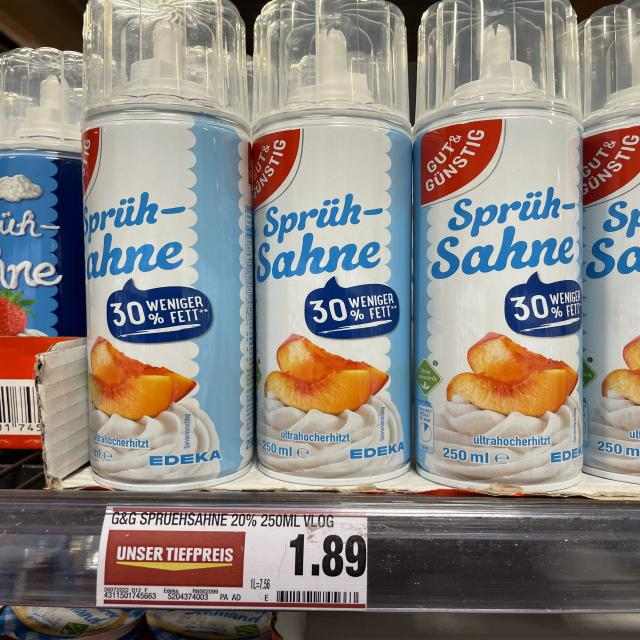cream: (81, 0, 252, 491), (414, 0, 585, 491), (252, 0, 412, 486), (580, 0, 640, 484), (1, 46, 85, 336), (35, 233, 40, 237)
sour cream: (0, 607, 144, 640), (145, 611, 272, 640)
